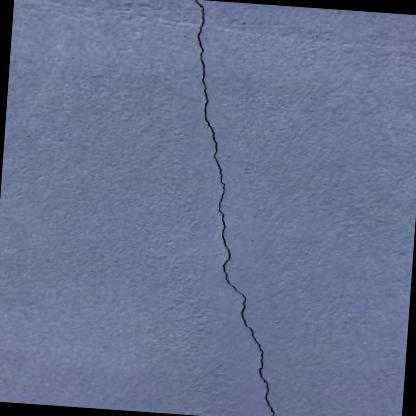crack: (195, 0, 276, 416)
